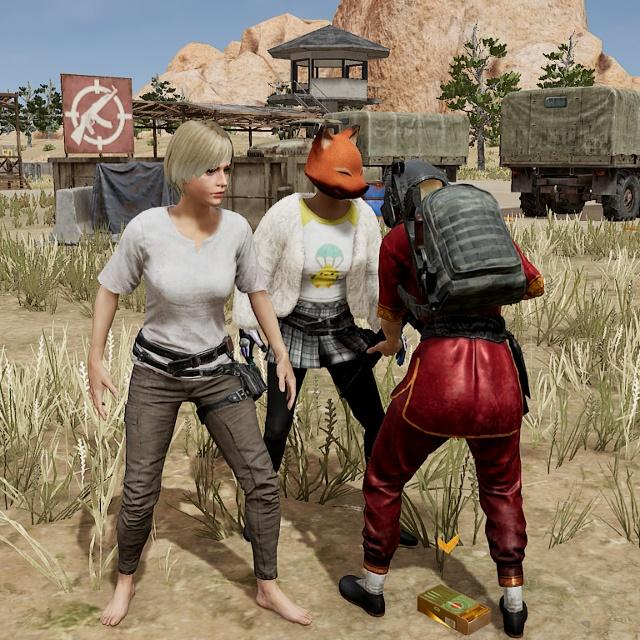head: (164, 119, 235, 215), (299, 125, 374, 205), (384, 155, 453, 229)
people: (86, 119, 309, 632), (340, 156, 548, 635), (252, 123, 404, 509)
